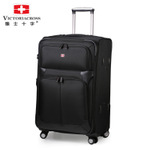luggage: (37, 8, 112, 143)
